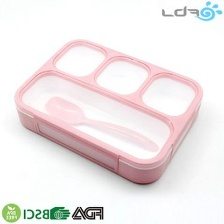plastic_box: (8, 32, 210, 190)
